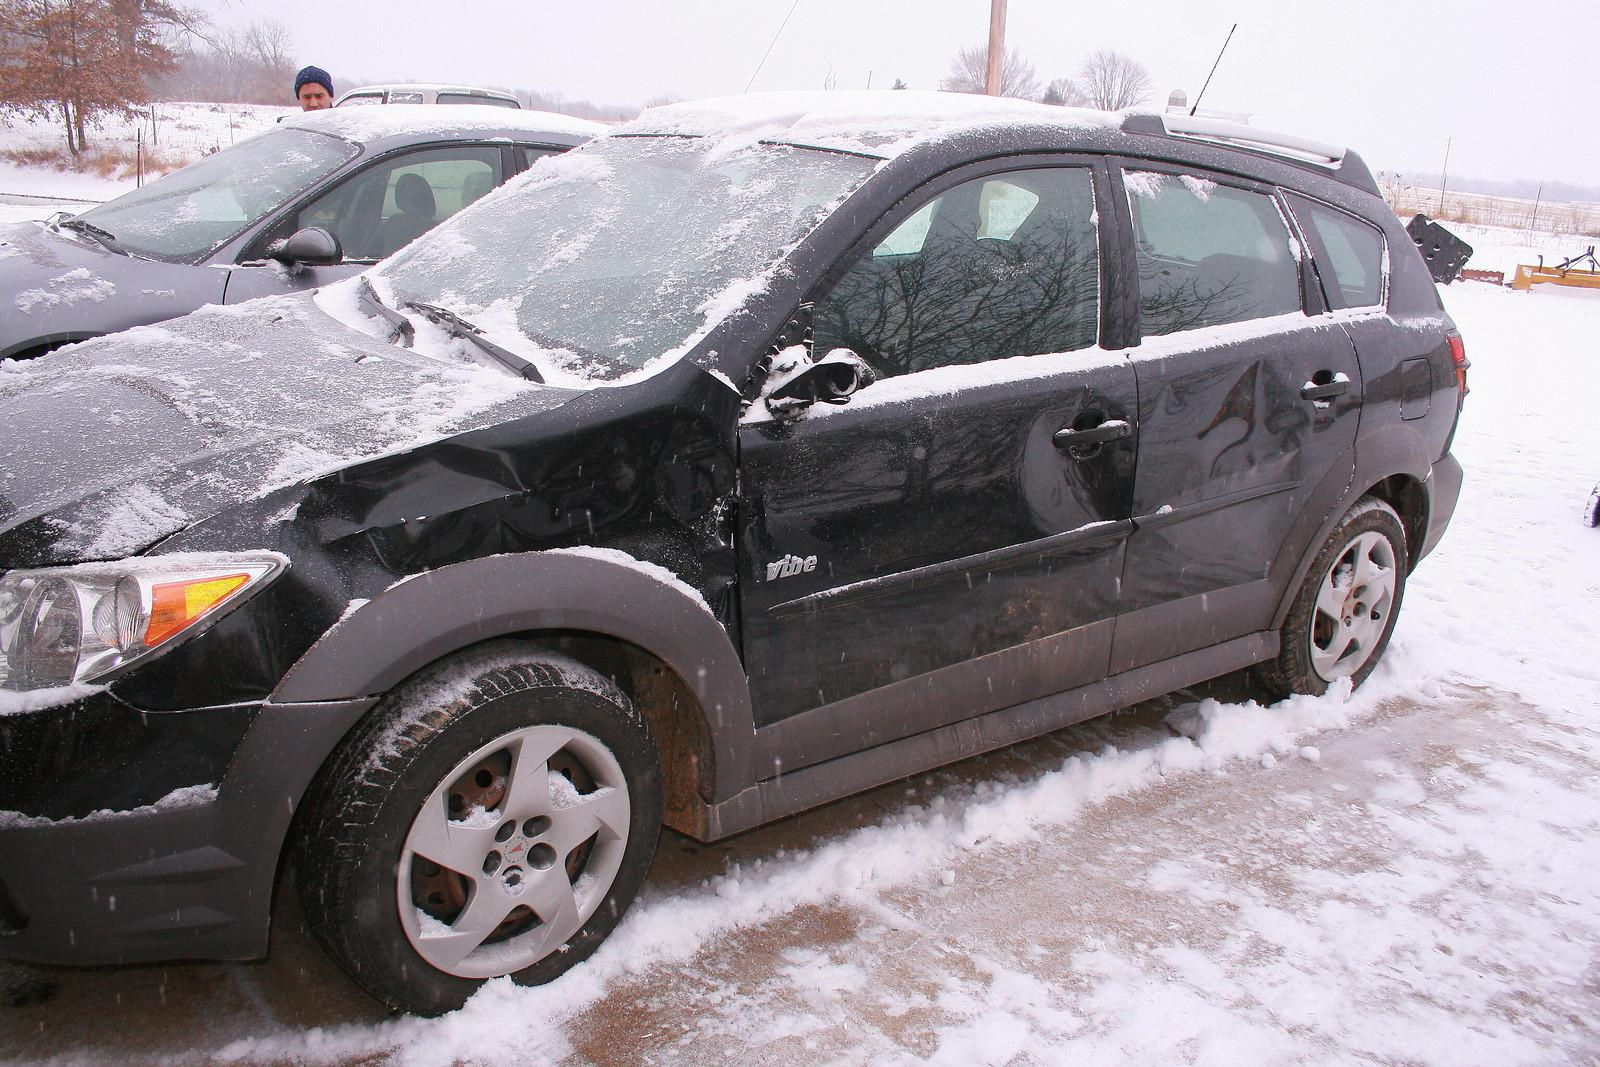doorouter-dent: (751, 377, 1126, 776), (1125, 350, 1380, 669)
fender-dent: (175, 366, 733, 616)
